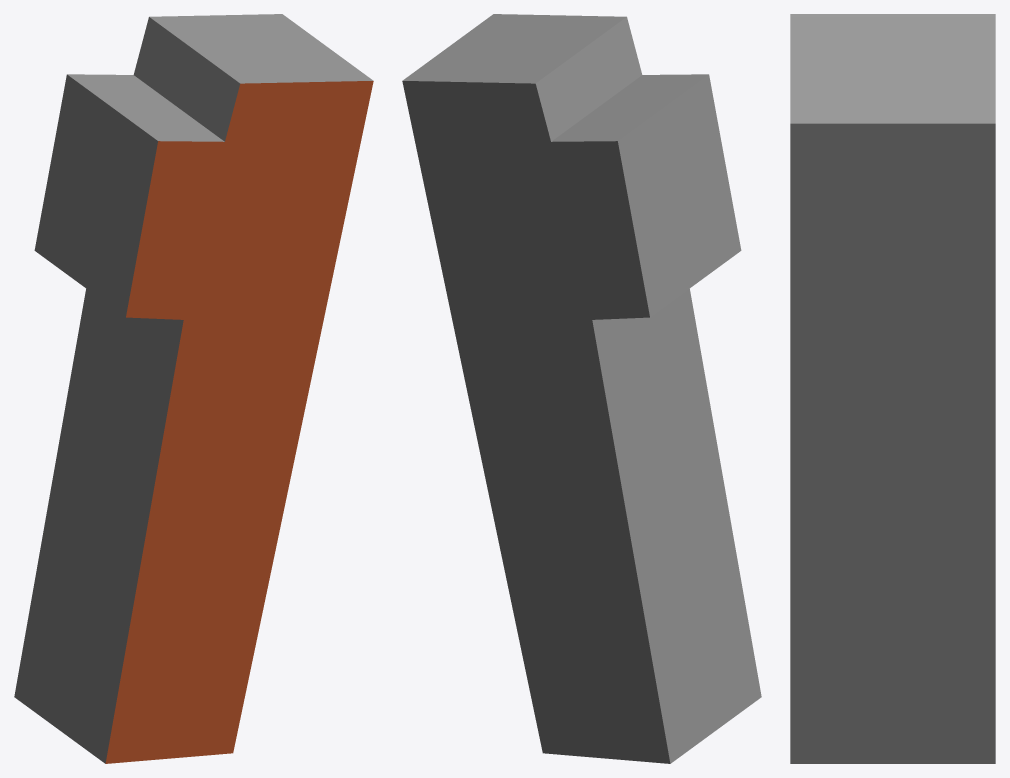
Rendered from construction_0722_assumed_A_Casa_h6m.obj.
3 views of the same model, side by side, from view 1: azimuth 30°, elevation 25°; view 2: azimuth 150°, elevation 25°; view 3: azimuth 270°, elevation 25° (orthographic). The views are drawn at different scales.
Parts seen in each view (by area): view 1: construction_0722_assumed_A_Casa; view 2: construction_0722_assumed_A_Casa; view 3: construction_0722_assumed_A_Casa.
Boxes of the visible parts, x1,y1,x2,y2 form: construction_0722_assumed_A_Casa: (14,14,373,763); construction_0722_assumed_A_Casa: (402,14,761,763); construction_0722_assumed_A_Casa: (790,14,995,763).
Size of the model in its own units: 10.18 by 24.22 by 6.
